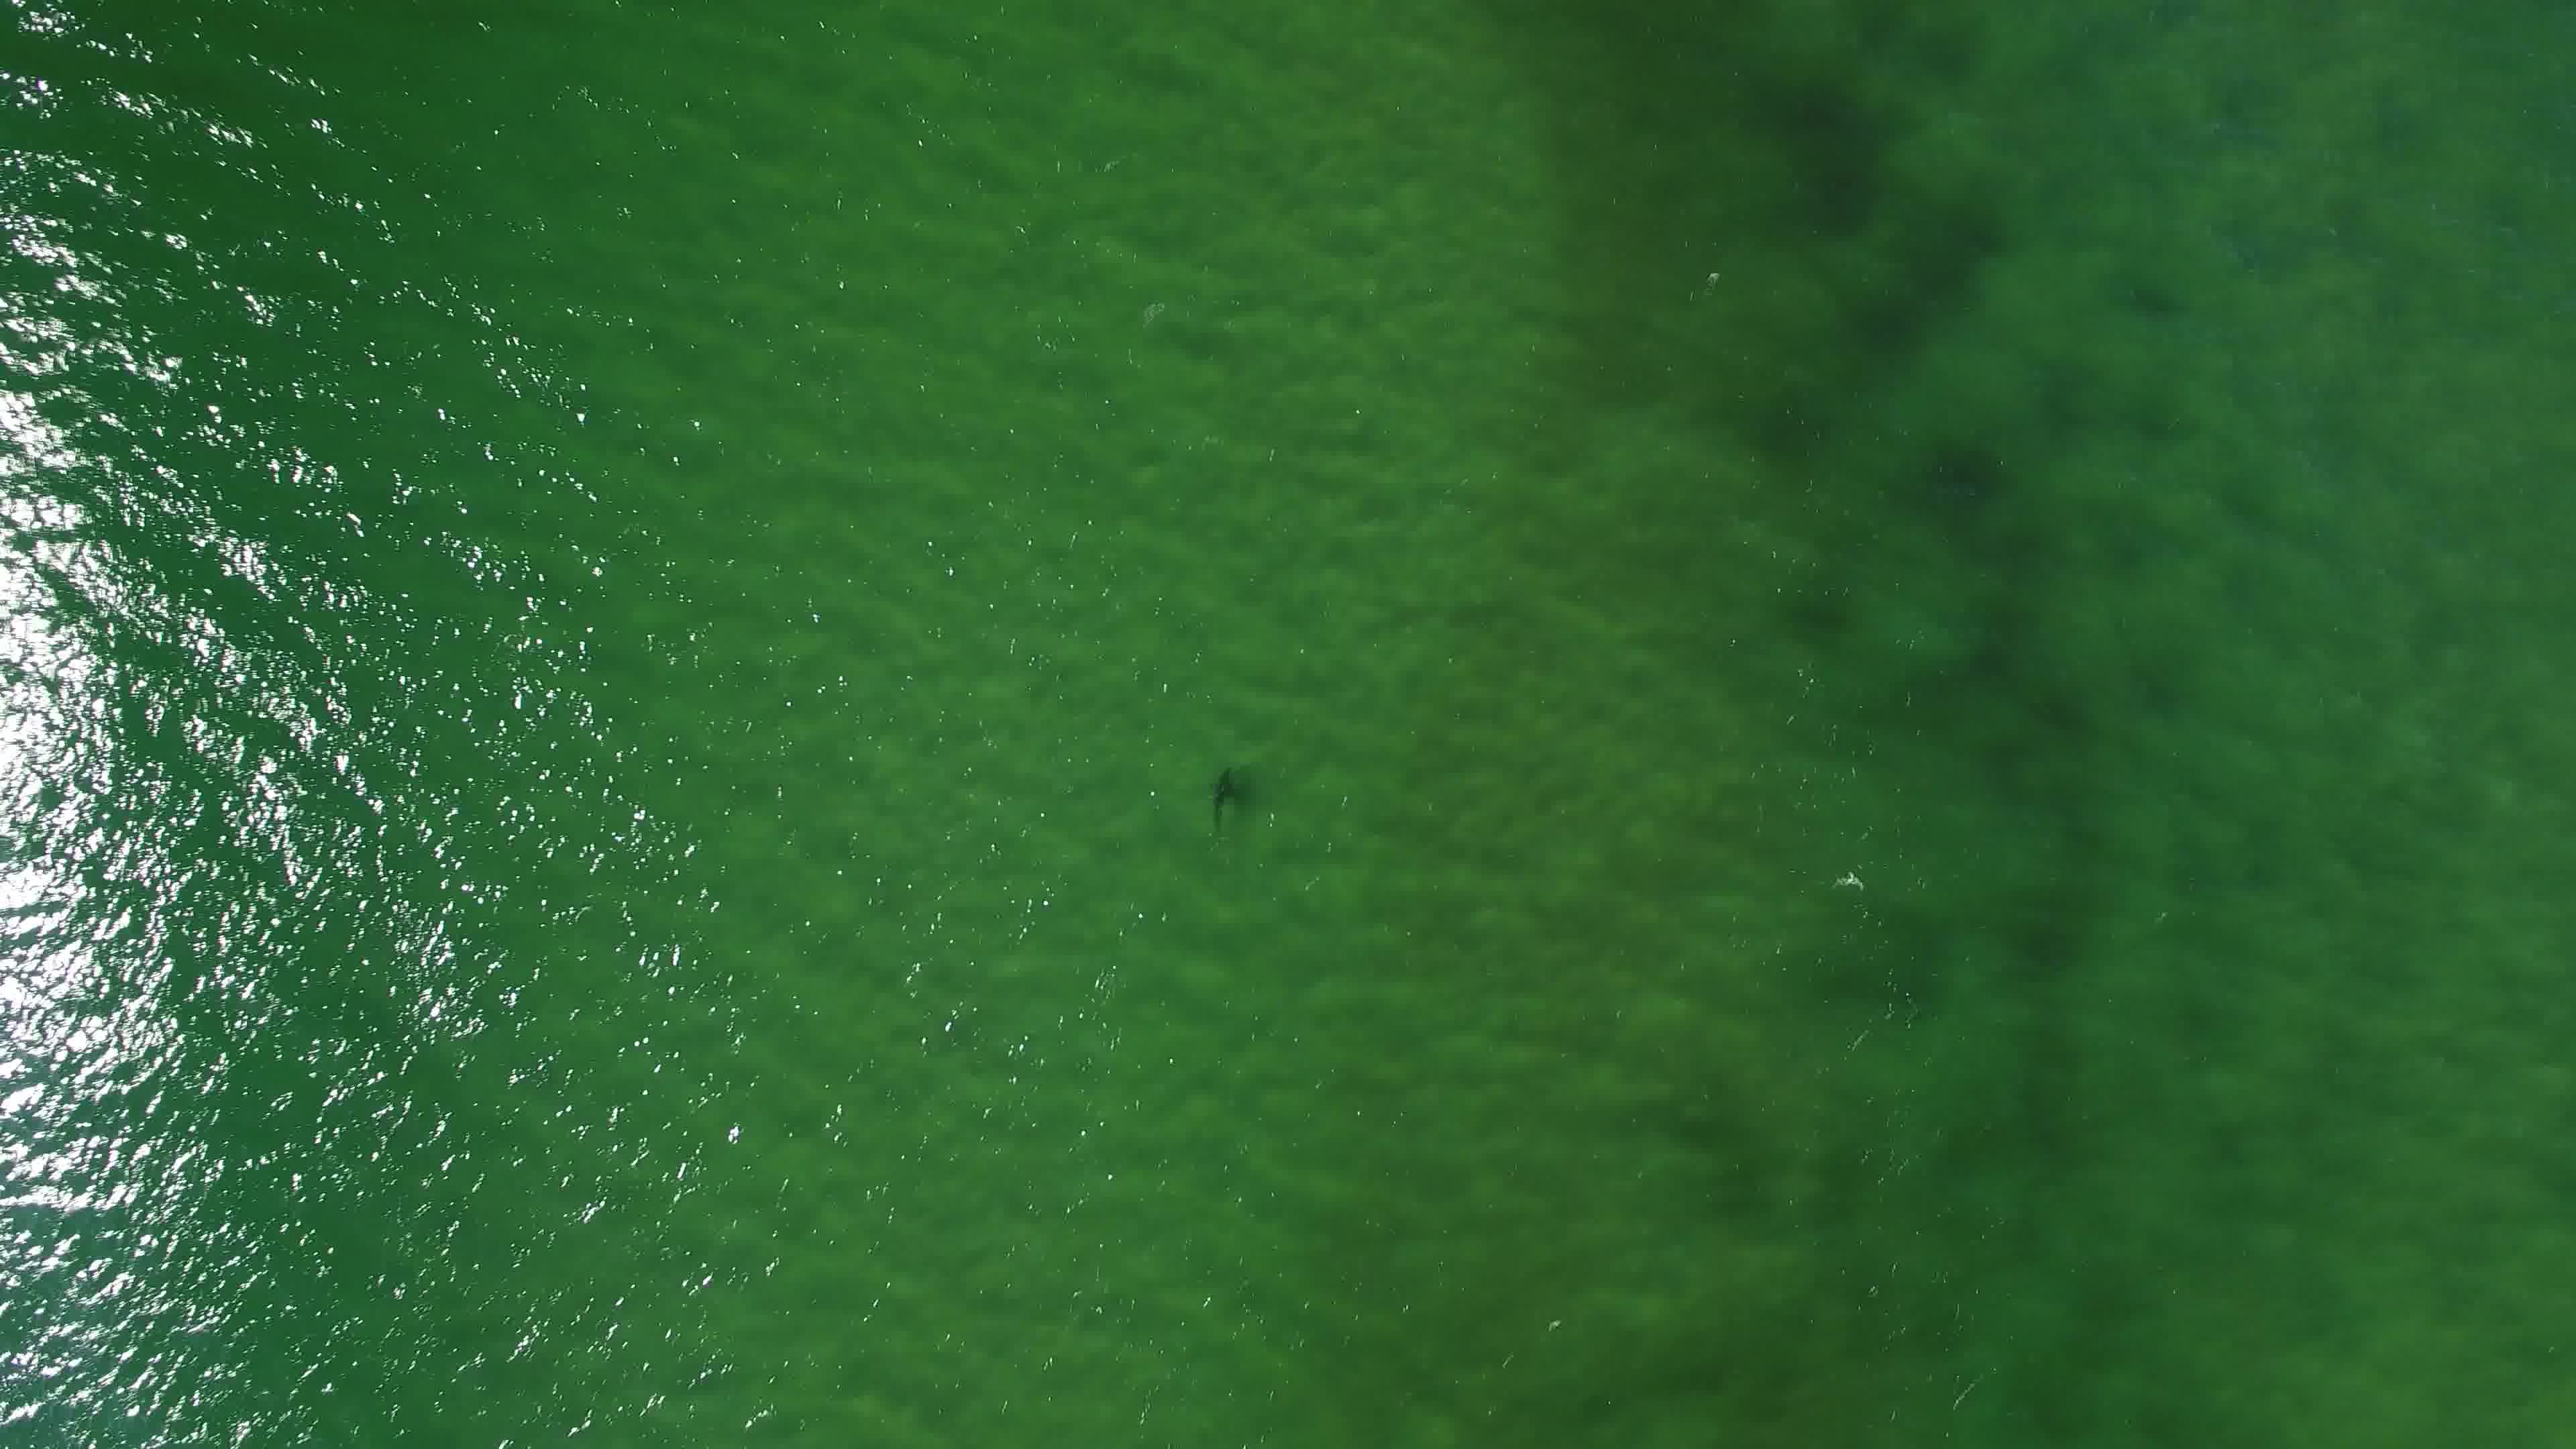shark: (1205, 761, 1244, 830)
